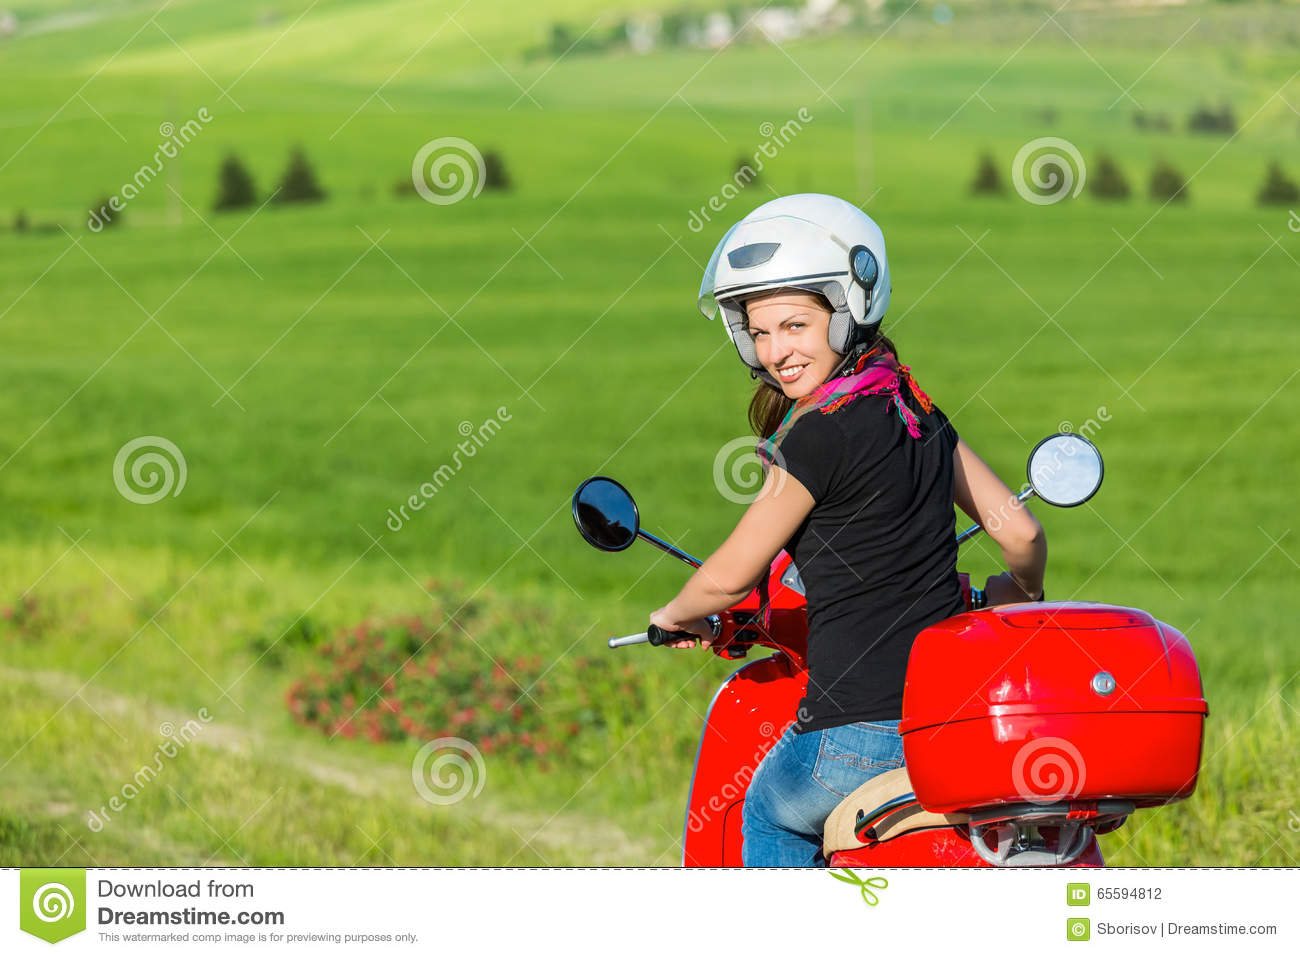helmet: (701, 186, 911, 369)
